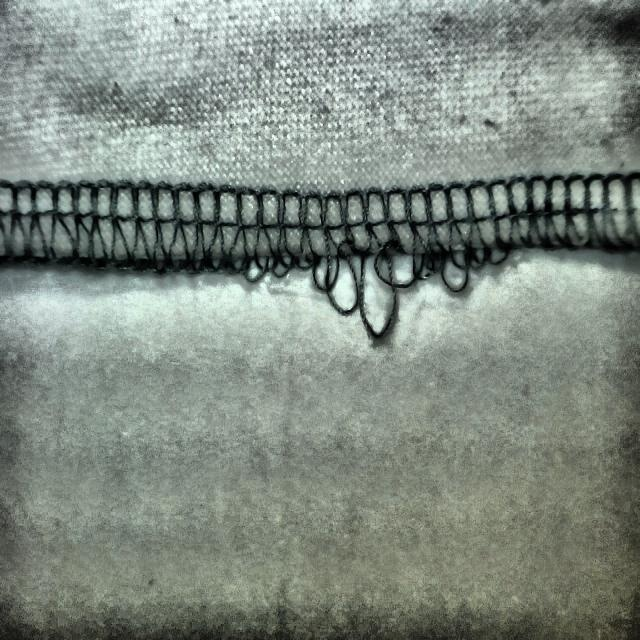Stitch: (214, 145, 533, 371)
